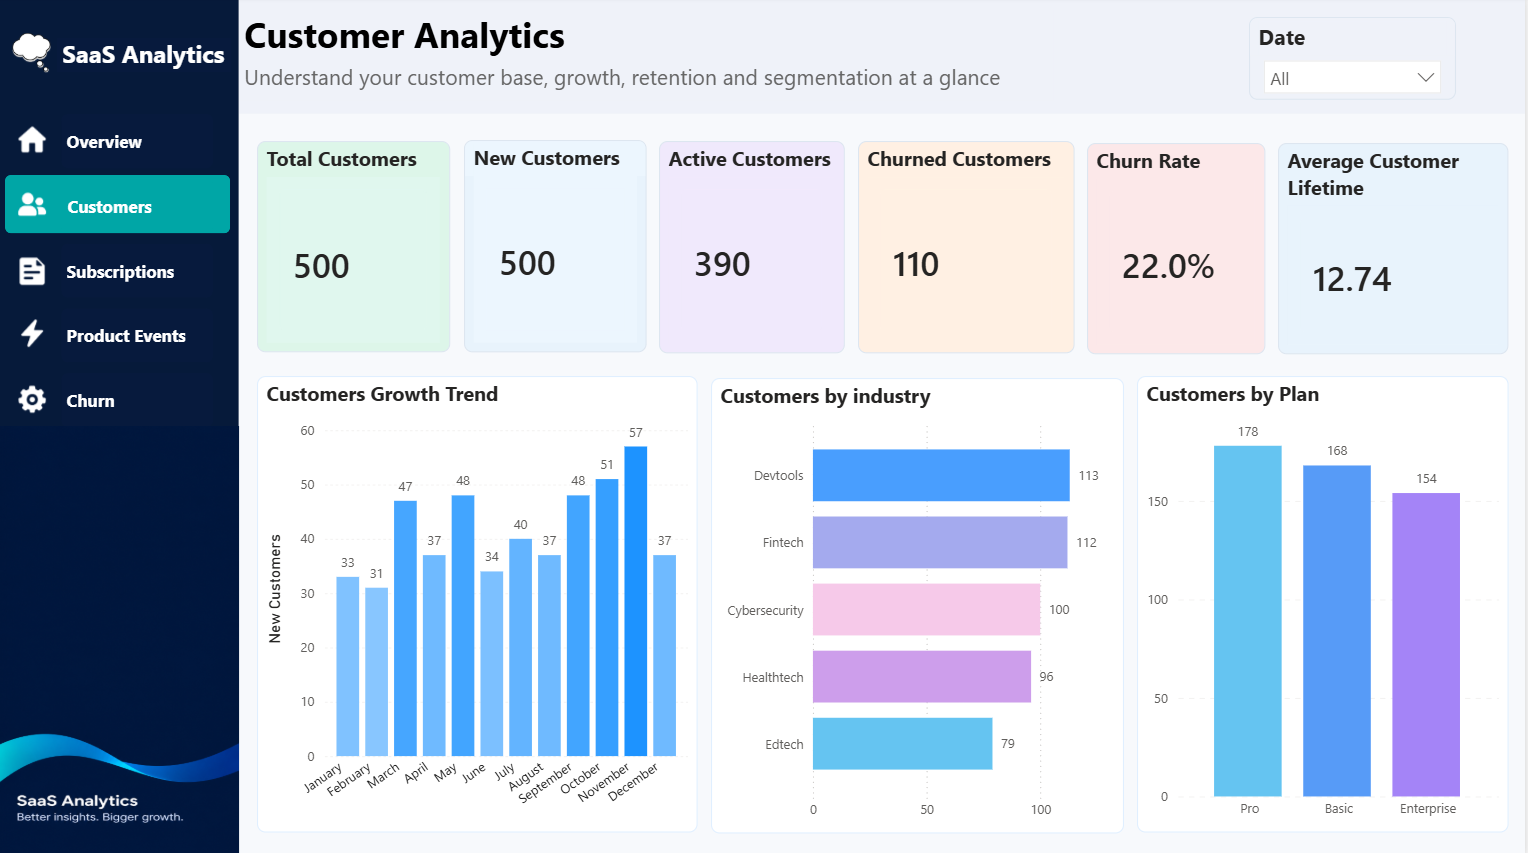

What the dashboard file says about the page in this screenshot:
{"tool":"powerbi","page":{"name":"Customers","canvas":[1440,810],"ordinal":1},"visuals":[{"type":"shape","box":[0,0,227.6,809.9],"z":0},{"type":"textbox","title":"SaaS Analytics","box":[56.6,38.8,164,31.8],"z":1000},{"type":"shape","box":[8,167.8,212,54.8],"z":2000},{"type":"image","box":[8.9,33.8,47.7,36.8],"z":3000},{"type":"pageNavigator","box":[40.7,110.3,164,295.2],"z":4000},{"type":"actionButton","box":[13.9,174.9,100.4,39.8],"z":5000},{"type":"actionButton","box":[13.9,110.3,100.4,48.7],"z":6000},{"type":"actionButton","box":[13.9,238.5,100.4,39.8],"z":7000},{"type":"actionButton","box":[13.9,358.8,100.4,39.8],"z":9000},{"type":"image","box":[0,404.4,227.7,405.6],"z":10000},{"type":"textbox","box":[228.2,0,1211.8,110.2],"z":11000},{"type":"textbox","title":"Customer Analytics","box":[228.2,12.4,766.7,85.4],"z":12000},{"type":"slicer","title":"Date","fields":{"Values":["accounts.signup_date.Variation.Date Hierarchy.Year","accounts.signup_date.Variation.Date Hierarchy.Month"]},"box":[1179.3,19,194.7,78.3],"z":13000},{"type":"cardVisual","title":"Total Customers","fields":{"Data":["kpis.Total Customers"]},"box":[244.9,135.9,181.6,199.2],"z":14000},{"type":"cardVisual","title":"New Customers","fields":{"Data":["kpis.New Customers"]},"box":[439.4,134.7,172.2,200.4],"z":15000},{"type":"cardVisual","title":"Active Customers","fields":{"Data":["kpis.Active Customers"]},"box":[623.3,135.9,174.6,200.4],"z":16000},{"type":"cardVisual","title":"Churned Customers","fields":{"Data":["account_360.Churned Customers All Time"]},"box":[810.8,135.9,203.9,200.4],"z":17000},{"type":"cardVisual","title":"Churn Rate","fields":{"Data":["kpis.Churn Rate"]},"box":[1026.4,137.1,167.6,199.2],"z":18000},{"type":"cardVisual","title":"Average Customer Lifetime","fields":{"Data":["kpis.Average Customer Lifetime Months"]},"box":[1206.8,137.1,216.8,199.2],"z":19000},{"type":"clusteredColumnChart","title":"Customers Growth Trend","fields":{"Y":["kpis.New Customers"],"Category":["accounts.signup_date.Variation.Date Hierarchy.Month"]},"box":[244.9,357.4,414.8,430],"z":20000},{"type":"clusteredColumnChart","title":"Customers by Plan","fields":{"Category":["account_360.plan_tier"],"Y":["kpis.Test Customers"]},"box":[1073.3,357.4,350.3,430],"z":21000},{"type":"clusteredBarChart","title":"Customers by industry","fields":{"Category":["account_360.industry"],"Y":["kpis.Test Customers"]},"box":[672.5,358.5,389,428.8],"z":22000},{"type":"actionButton","box":[14.1,296.4,100.8,39.8],"z":22001}]}

Visuals, with their boxes in screenshot pixels (x1, y1, x2, y2), scaled from the page's 1440x810 canvas onto the 1528x853 screenshot:
shape: 0 0 242 852
"SaaS Analytics" textbox: 60 41 234 74
shape: 8 177 233 234
image: 9 36 60 74
pageNavigator: 43 116 217 427
actionButton: 15 184 121 226
actionButton: 15 116 121 167
actionButton: 15 251 121 293
actionButton: 15 378 121 420
image: 0 426 242 852
textbox: 242 0 1527 116
"Customer Analytics" textbox: 242 13 1056 103
"Date" slicer: 1251 20 1458 102
"Total Customers" cardVisual: 260 143 453 353
"New Customers" cardVisual: 466 142 649 353
"Active Customers" cardVisual: 661 143 847 354
"Churned Customers" cardVisual: 860 143 1077 354
"Churn Rate" cardVisual: 1089 144 1267 354
"Average Customer Lifetime" cardVisual: 1281 144 1511 354
"Customers Growth Trend" clusteredColumnChart: 260 376 700 829
"Customers by Plan" clusteredColumnChart: 1139 376 1511 829
"Customers by industry" clusteredBarChart: 714 378 1126 829
actionButton: 15 312 122 354
